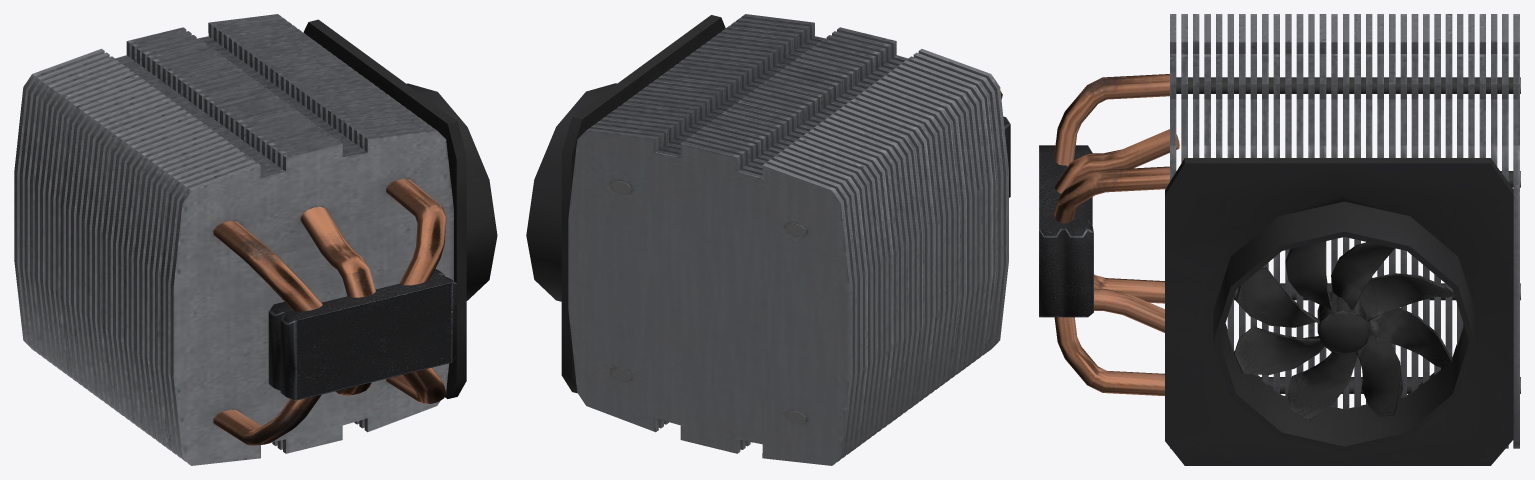
The model's file is Culle_2.fbx.
3 renders of one model, left to right at view 1: azimuth 30°, elevation 25°; view 2: azimuth 150°, elevation 25°; view 3: azimuth 270°, elevation 25°, orthographic. The views are drawn at different scales.
Visible parts, largest first — view 1: Culler-2; view 2: Culler-2; view 3: Culler-2.
Boxes of the visible parts, x1,y1,x2,y2 form: Culler-2: (14, 14, 497, 465); Culler-2: (526, 14, 1010, 465); Culler-2: (1039, 14, 1520, 465).
Bounding box in the file's own units: 39.03 × 32.16 × 43.14.
2 materials, 2 textured.
